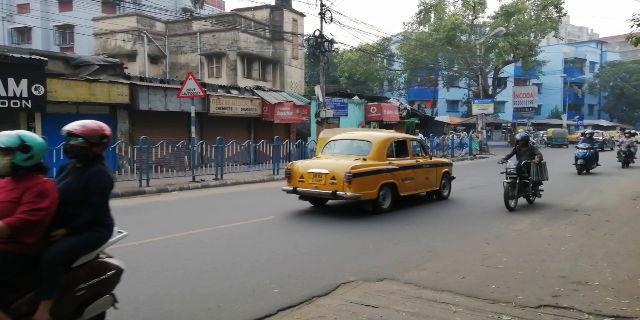Car: (288, 133, 456, 207)
Motorbike: (496, 131, 544, 209), (571, 125, 602, 172), (609, 126, 640, 173)
